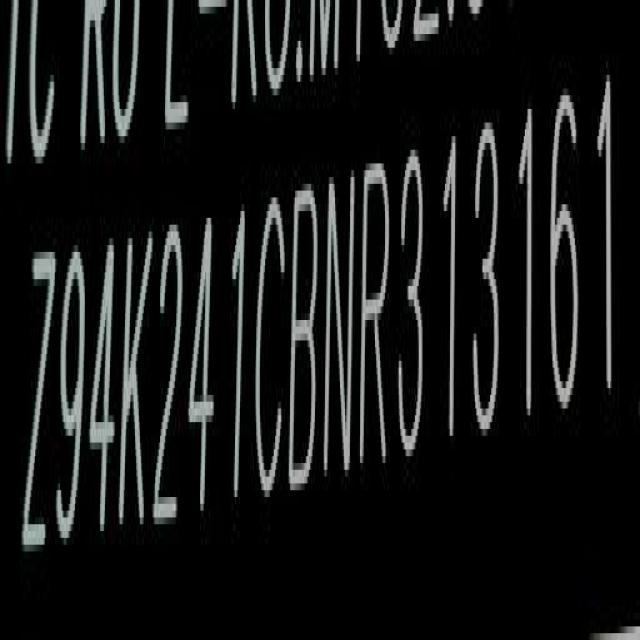1: (598, 68, 619, 419), (519, 99, 538, 436), (227, 201, 247, 517), (442, 132, 459, 454)
2: (153, 223, 185, 539)
3: (471, 113, 500, 447), (399, 148, 425, 462)
4: (191, 218, 219, 533), (90, 237, 118, 550)
6: (552, 81, 584, 421)
9: (57, 241, 84, 557)
B: (287, 189, 320, 509)
C: (254, 195, 286, 508)
K: (117, 225, 152, 521)
N: (327, 165, 356, 490)
R: (359, 162, 391, 481)
Z: (22, 242, 54, 570)
